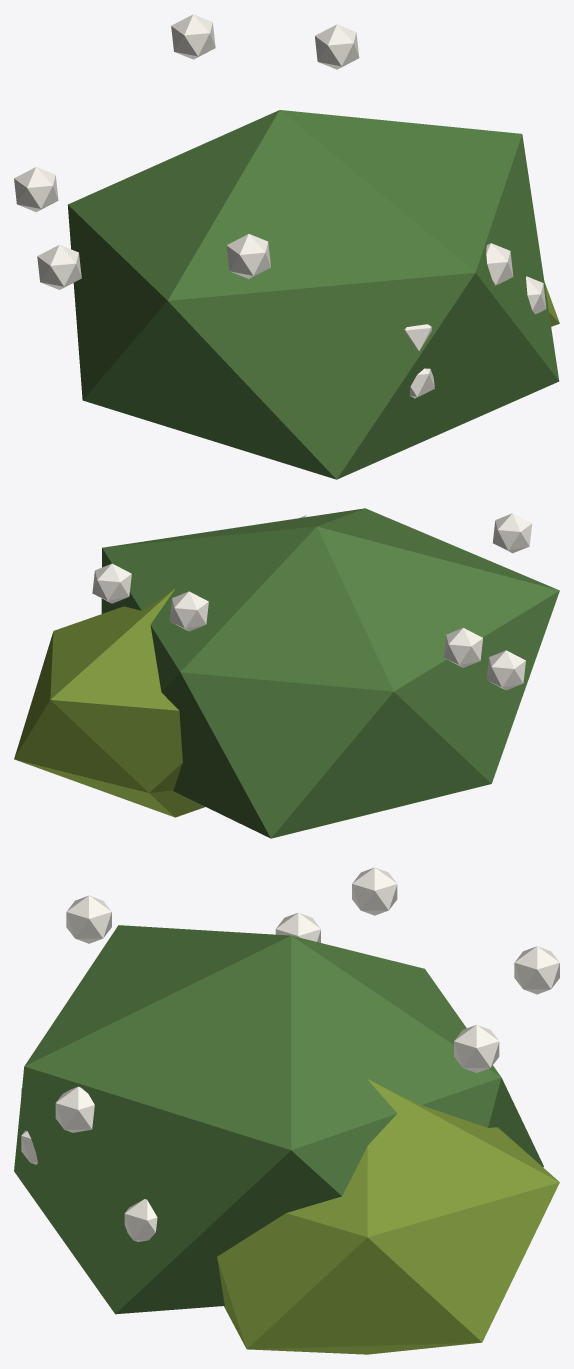
The model's file is buske_1.glb.
3 renders of one model, top to bottom at view 1: azimuth 30°, elevation 25°; view 2: azimuth 150°, elevation 25°; view 3: azimuth 270°, elevation 25°, orthographic. The views are drawn at different scales.
Visible parts, largest first — view 1: buske_1; view 2: buske_1; view 3: buske_1.
Boxes of the visible parts, box(x1,y1,x2,y2) form: buske_1: box(14, 14, 559, 479); buske_1: box(14, 508, 559, 838); buske_1: box(14, 867, 559, 1354).
Size of the model in its own units: 1.61 by 1.04 by 1.43.
